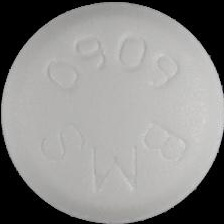0087-6060: (0, 0, 224, 224)
